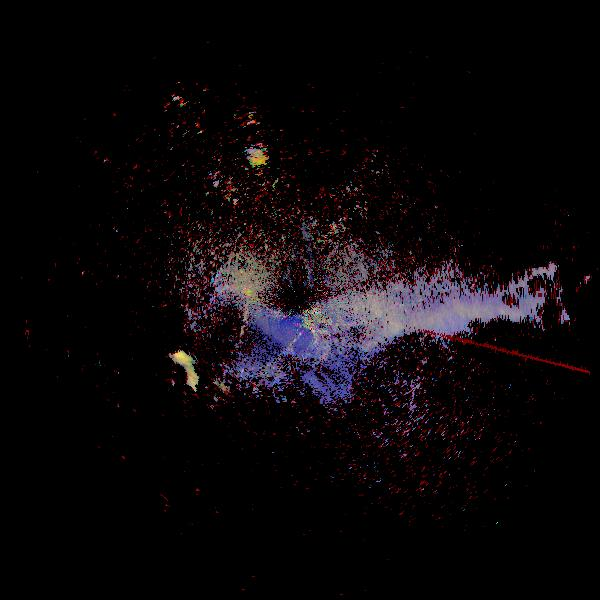roost: (145, 342, 208, 405), (98, 362, 125, 389)
